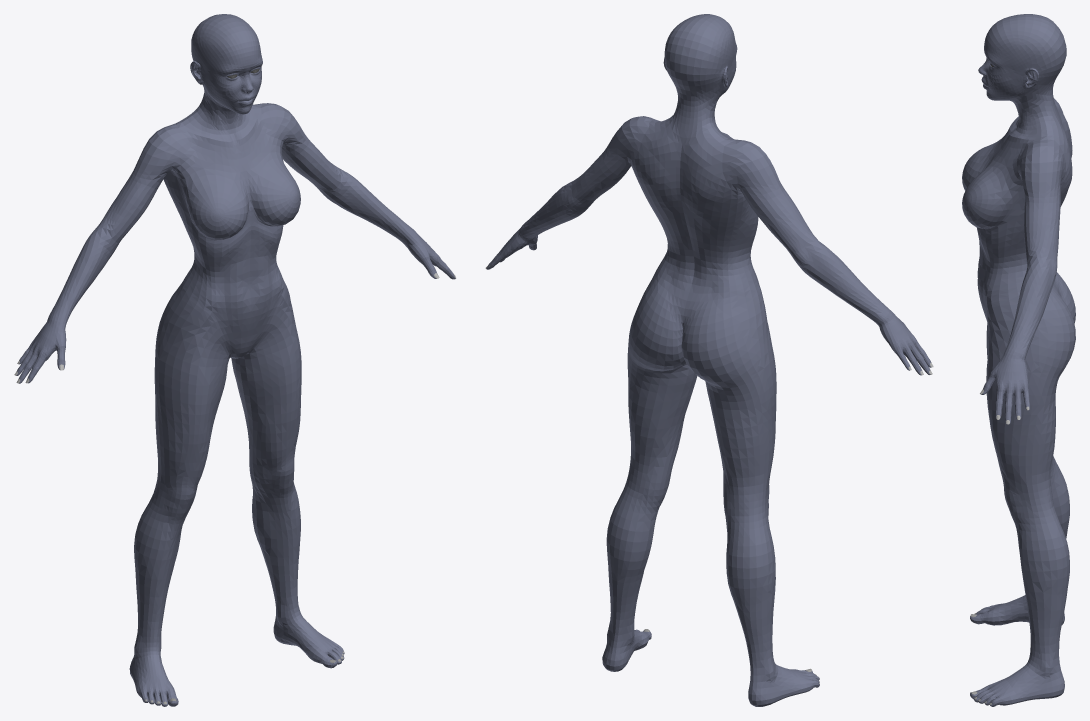
The model's file is woman_master.glb.
3 views of the same model, side by side, from view 1: azimuth 30°, elevation 25°; view 2: azimuth 150°, elevation 25°; view 3: azimuth 270°, elevation 25° (orthographic). The views are drawn at different scales.
Parts seen in each view (by area): view 1: world; view 2: world; view 3: world.
Part boxes in pixels (left/top/right/bottom): world: left=14, top=14, right=456, bottom=706; world: left=485, top=14, right=933, bottom=706; world: left=962, top=14, right=1075, bottom=706.
Bounding box in the file's own units: 1263 × 1792 × 286.
